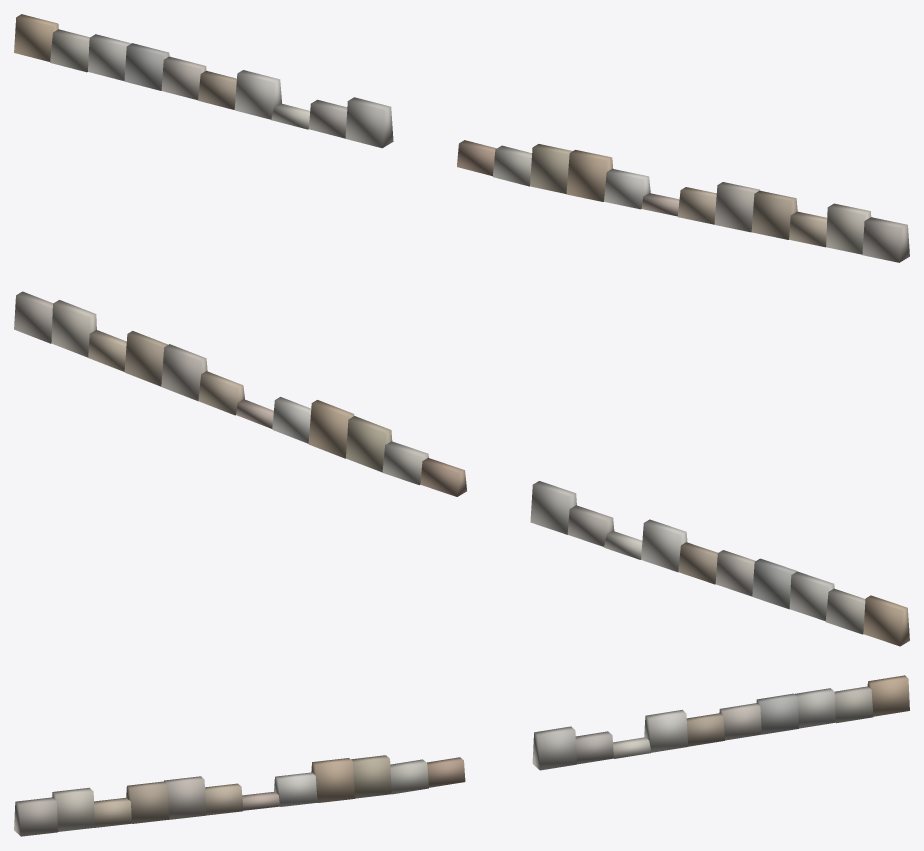
File: farm_7_15_collision.glb
The picture shows the model from 3 angles, top to bottom: view 1: azimuth 30°, elevation 25°; view 2: azimuth 210°, elevation 25°; view 3: azimuth 270°, elevation 25°; orthographic projection. The views are drawn at different scales.
Visible parts, largest first — view 1: geometry_0; view 2: geometry_0; view 3: geometry_0.
Boxes of the visible parts, x1=… form: geometry_0: x1=14, y1=14, x2=909, y2=262; geometry_0: x1=14, y1=291, x2=909, y2=646; geometry_0: x1=14, y1=675, x2=909, y2=836.
Bounding box in the file's own units: 16.64 × 3.48 × 34.95.
